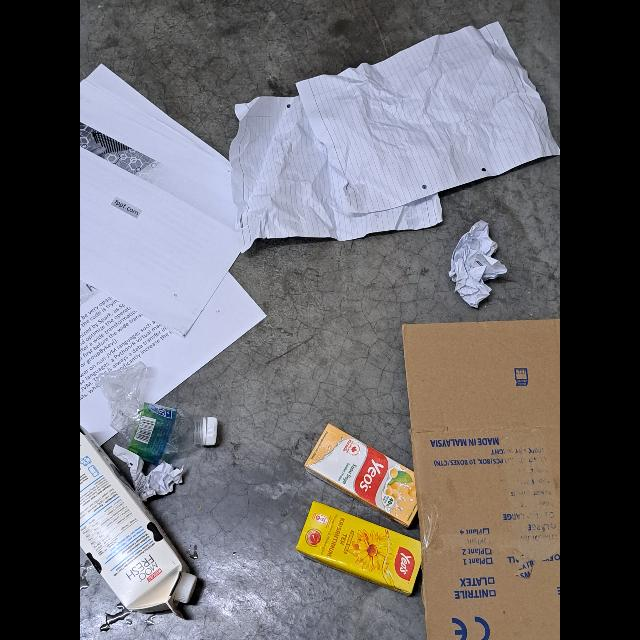caixinha: (80, 431, 198, 615), (306, 424, 418, 530), (296, 500, 422, 594)
garrafa plástica: (103, 360, 221, 448)
papel: (228, 22, 560, 238), (80, 61, 264, 442), (452, 216, 506, 308), (113, 444, 187, 504)
papelão: (398, 318, 560, 640)
tampa plástica: (170, 572, 196, 608), (201, 416, 217, 446)
